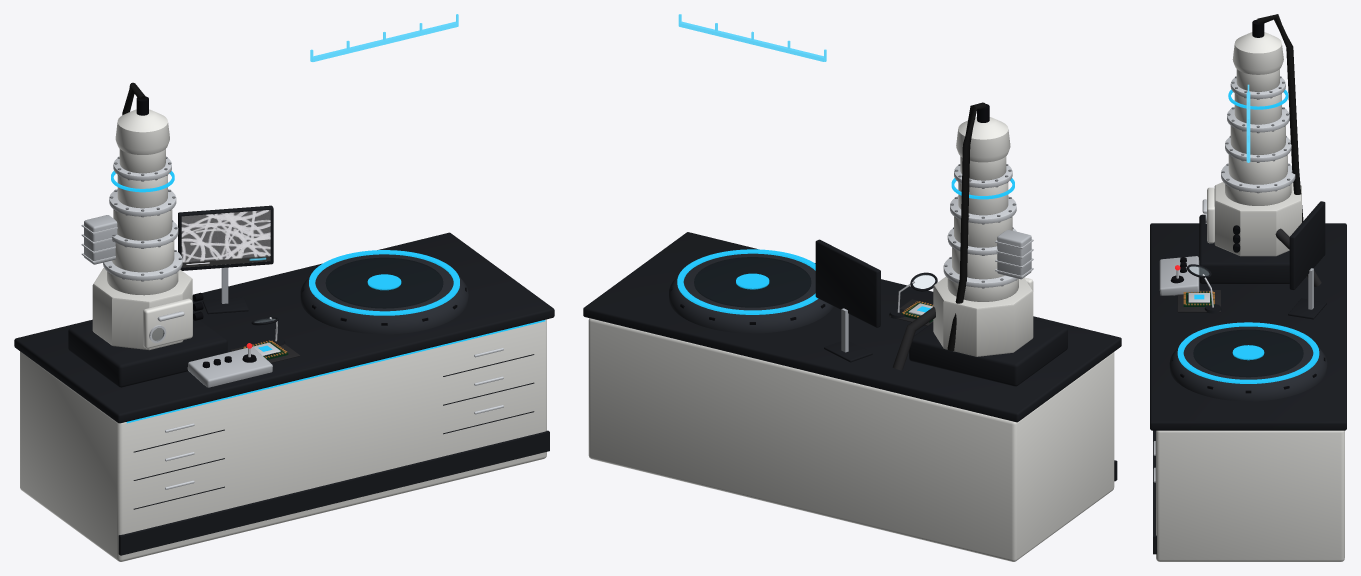
The model's file is nano_microscope.glb.
3 views of the same model, side by side, from view 1: azimuth 30°, elevation 25°; view 2: azimuth 150°, elevation 25°; view 3: azimuth 270°, elevation 25° (orthographic). The views are drawn at different scales.
Parts seen in each view (by area): view 1: nanoBody, semBody, semImage, monitorBody, chipBody; view 2: nanoBody, semBody, monitorBody, chipBody; view 3: nanoBody, semBody, monitorBody, chipBody.
Part boxes in pixels (x1,y1,x2,y2): nanoBody: (14,14,554,561); semBody: (68,82,227,387); semImage: (181,210,270,267); monitorBody: (178,205,273,314); chipBody: (230,317,300,363); nanoBody: (583,14,1121,561); semBody: (892,102,1067,386); monitorBody: (815,239,880,362); chipBody: (889,272,937,326); nanoBody: (1150,84,1346,561); semBody: (1199,14,1321,286); monitorBody: (1288,201,1326,319); chipBody: (1177,264,1221,313).
Bounding box in the file's own units: 2.4 × 2.2 × 1.
Materials: 21 (2 with a texture image).
